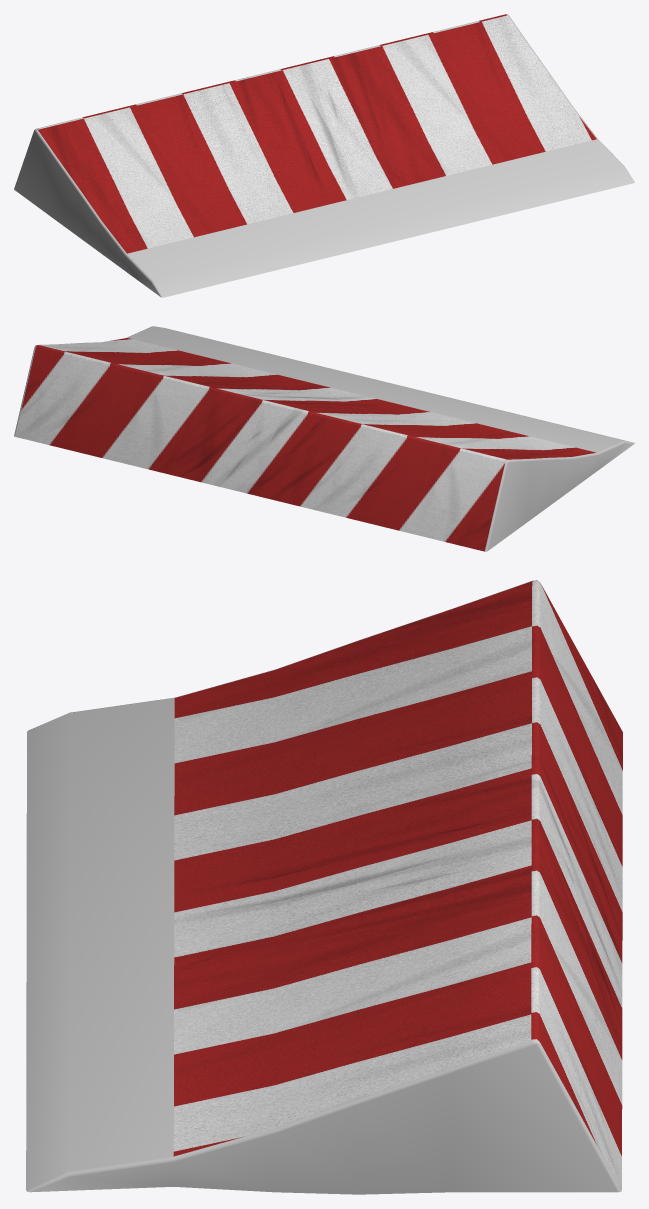
The model's file is Ramp.fbx.
The picture shows the model from 3 angles, top to bottom: view 1: azimuth 30°, elevation 25°; view 2: azimuth 150°, elevation 25°; view 3: azimuth 270°, elevation 25°; orthographic projection. The views are drawn at different scales.
Parts seen in each view (by area): view 1: Ramp; view 2: Ramp; view 3: Ramp.
Boxes of the visible parts, x1,y1,x2,y2 form: Ramp: (14,14,634,297); Ramp: (14,326,634,551); Ramp: (26,580,622,1194).
Size of the model in its own units: 696 by 108 by 380.
